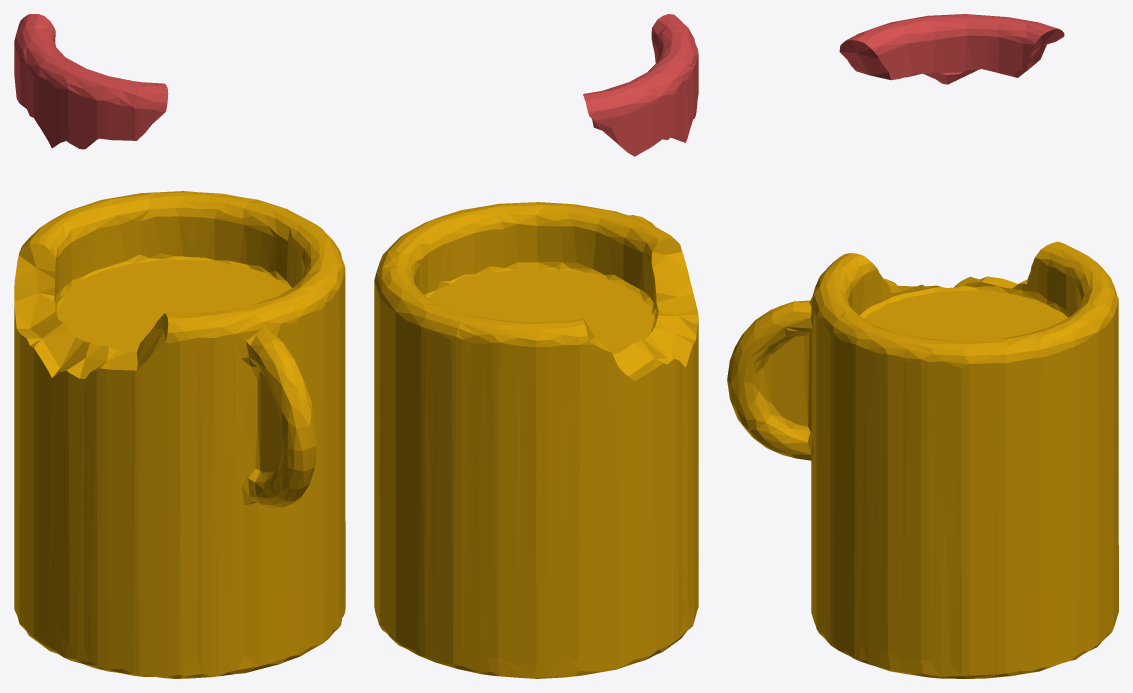
The model's file is fractured_45_2pcs_transformed.glb.
3 renders of one model, left to right at view 1: azimuth 30°, elevation 25°; view 2: azimuth 150°, elevation 25°; view 3: azimuth 270°, elevation 25°, orthographic. The views are drawn at different scales.
Visible parts, largest first — view 1: piece_0.obj, piece_1.obj; view 2: piece_0.obj, piece_1.obj; view 3: piece_0.obj, piece_1.obj.
Part boxes in pixels (<box>): piece_0.obj: <box>14,191,345,678</box>; piece_1.obj: <box>14,14,168,149</box>; piece_0.obj: <box>374,202,698,678</box>; piece_1.obj: <box>583,14,698,156</box>; piece_0.obj: <box>727,241,1118,678</box>; piece_1.obj: <box>839,14,1064,84</box>.
Bounding box in the file's own units: 0.7845 × 1.53 × 1.
